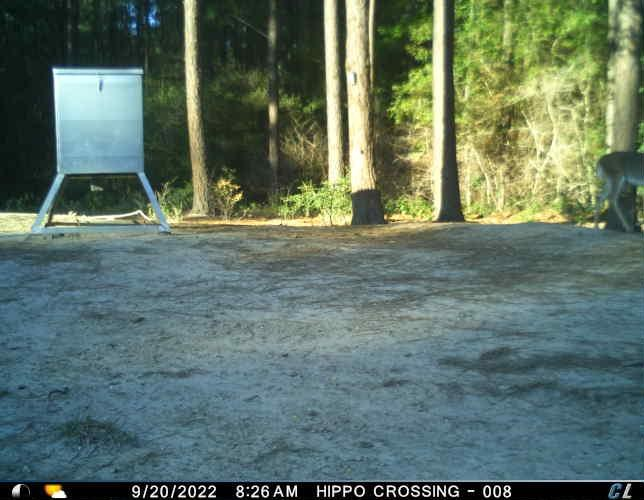Deer: (591, 148, 644, 240)
